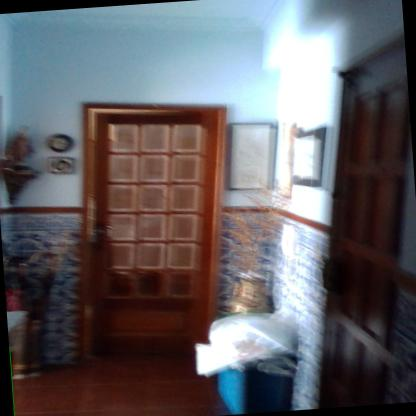closed: (72, 88, 249, 389)
